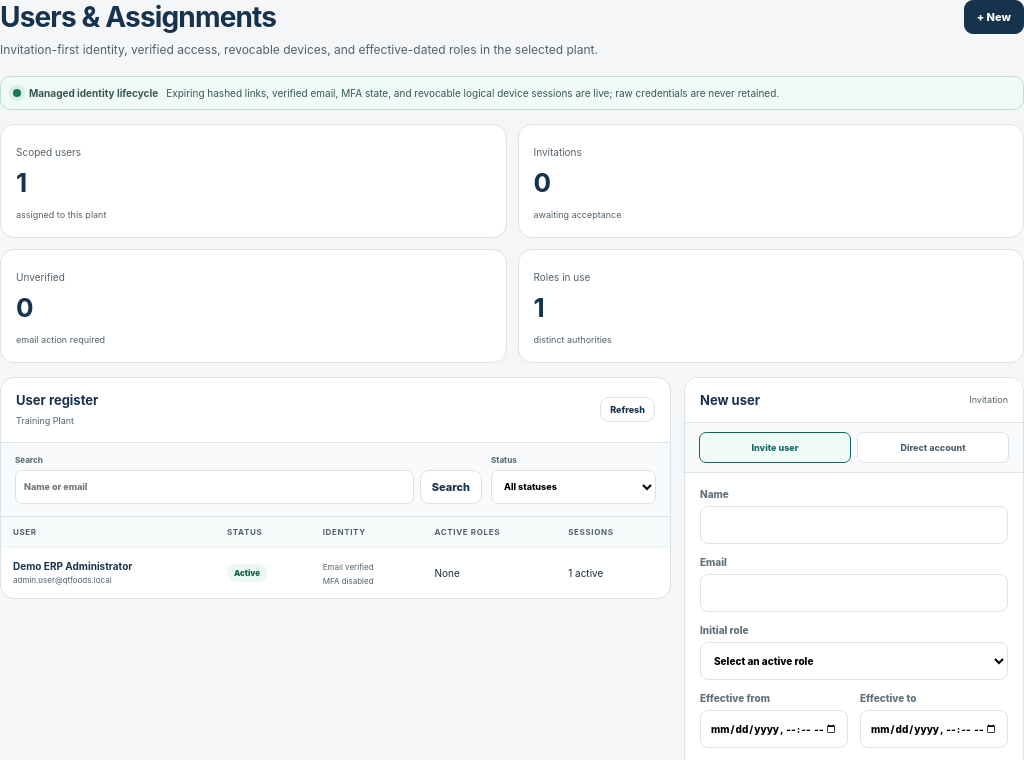
it: foundation administration workspaces › creates an invitation-first user without collecting a temporary password
Check: the text "Demo ERP Administrator" is shown, box [13, 560, 132, 572]
Click the button "+ New": (994, 17) [964, 0, 1023, 34]
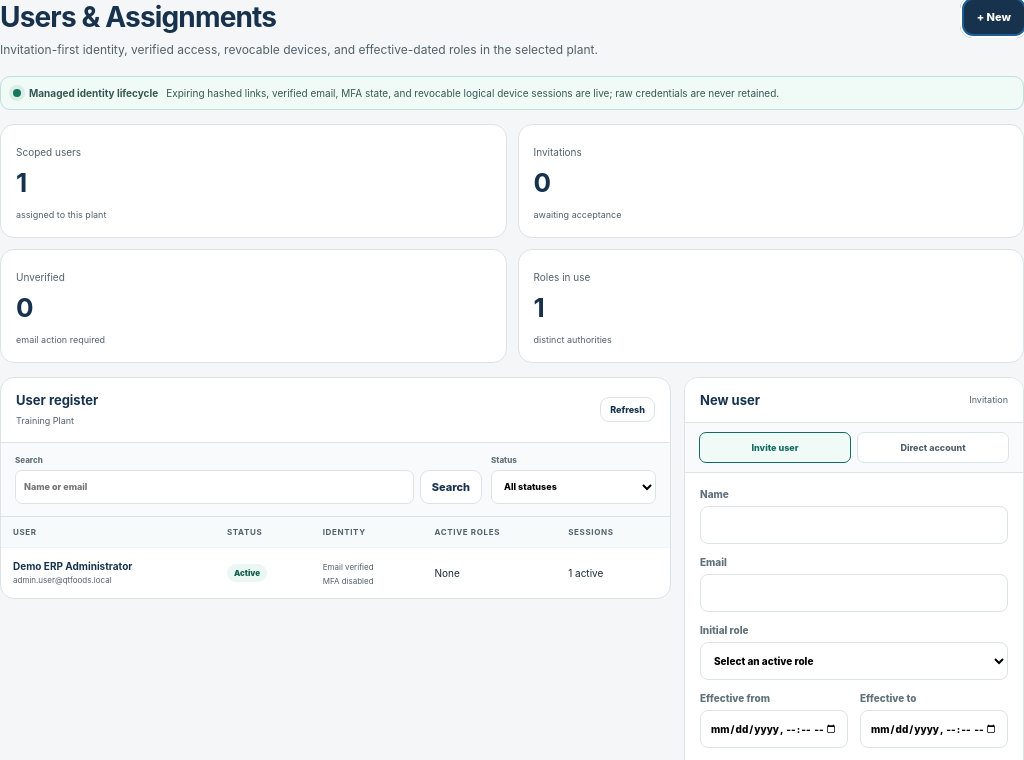
In the field labelled "Name": (854, 525) [700, 506, 1008, 544], type "Invited Auditor"
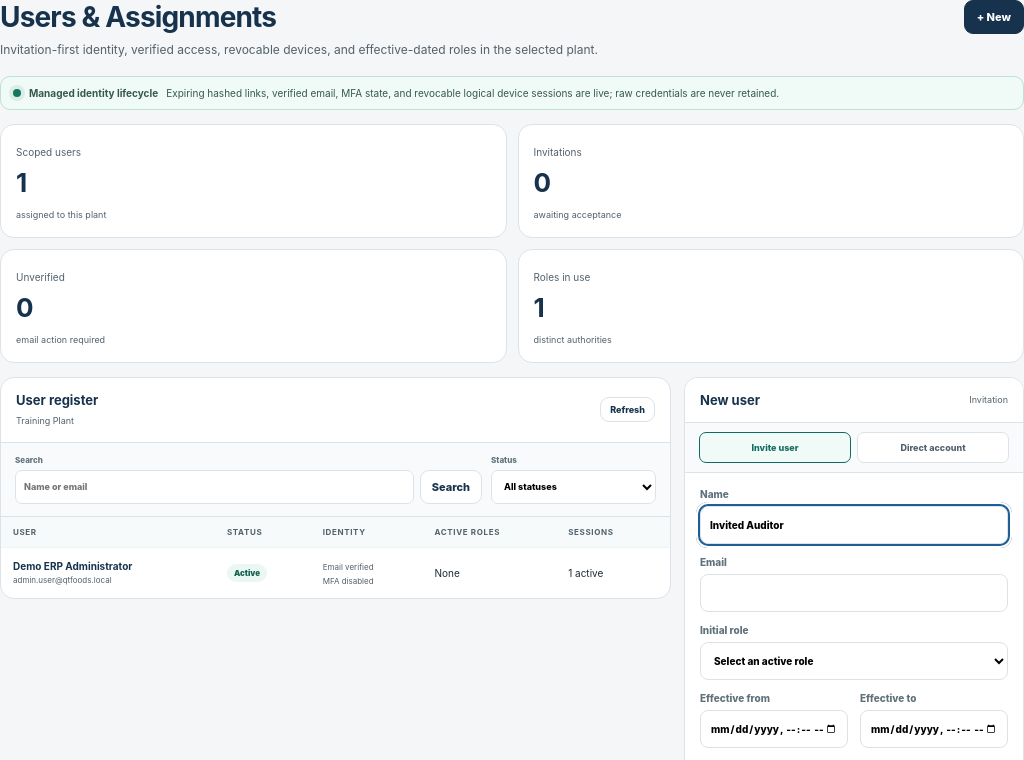
In the field labelled "Email": (854, 593) [700, 574, 1008, 612], type "INVITED@EXAMPLE.LOCAL"
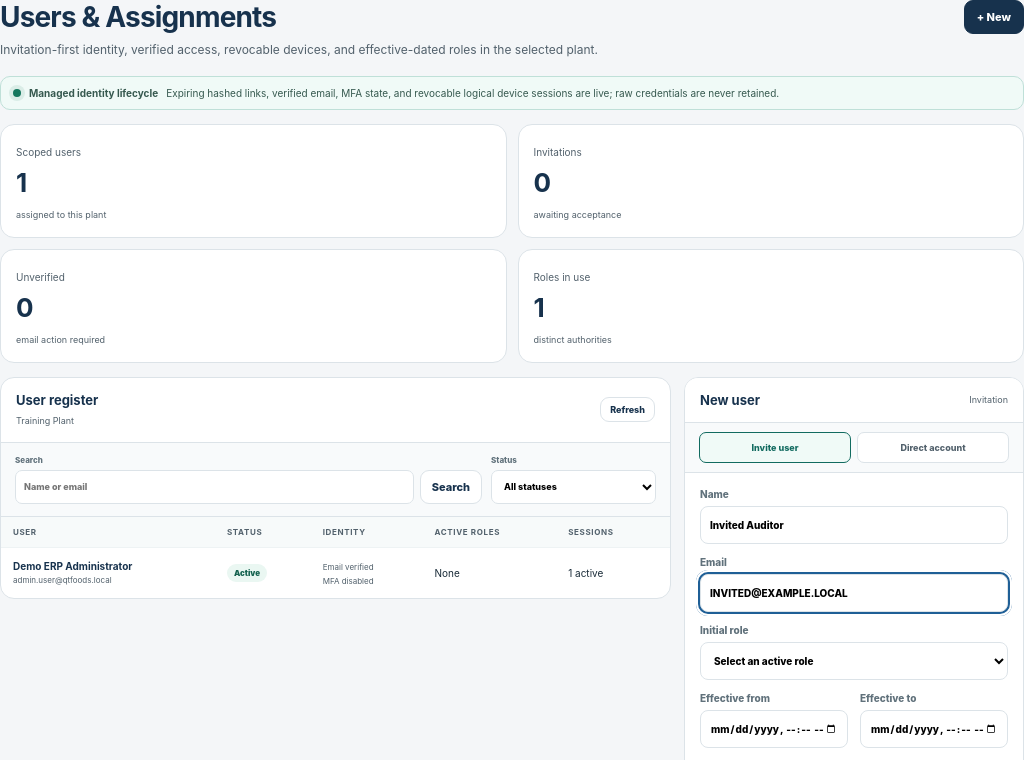
Select "ERP Administrator (ERP_ADMIN)" in the dropdown labelled "Initial role": (854, 661) [700, 642, 1008, 680]
(page scrolled)
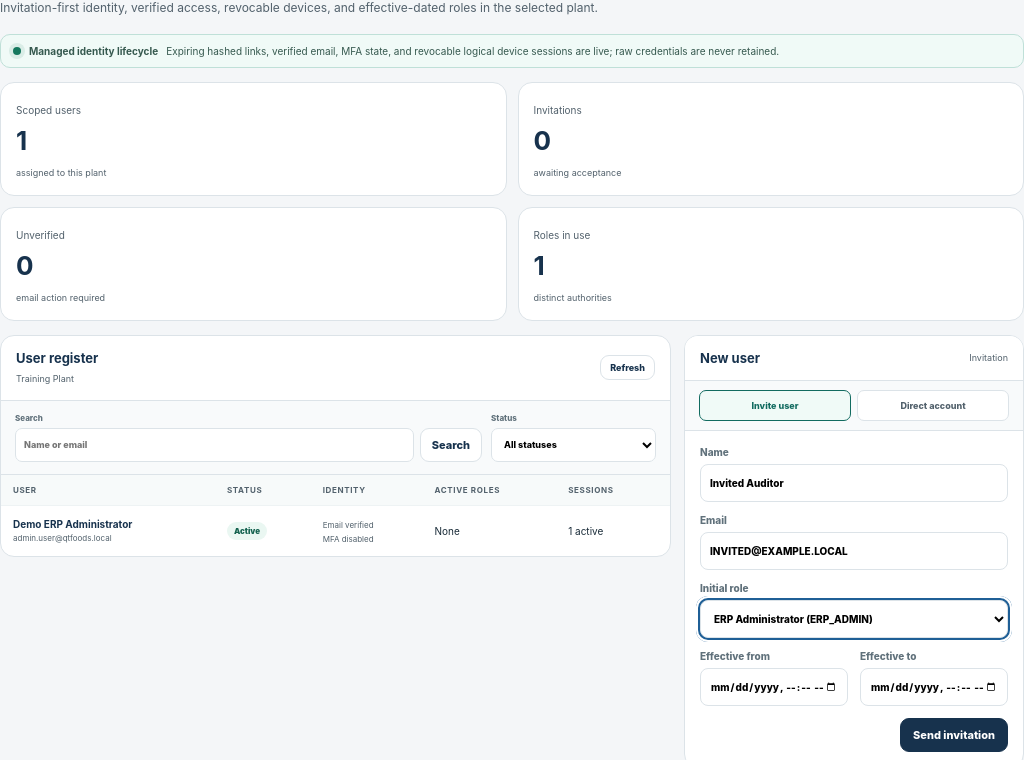
Click the button "Send invitation": (954, 735) [900, 718, 1008, 752]
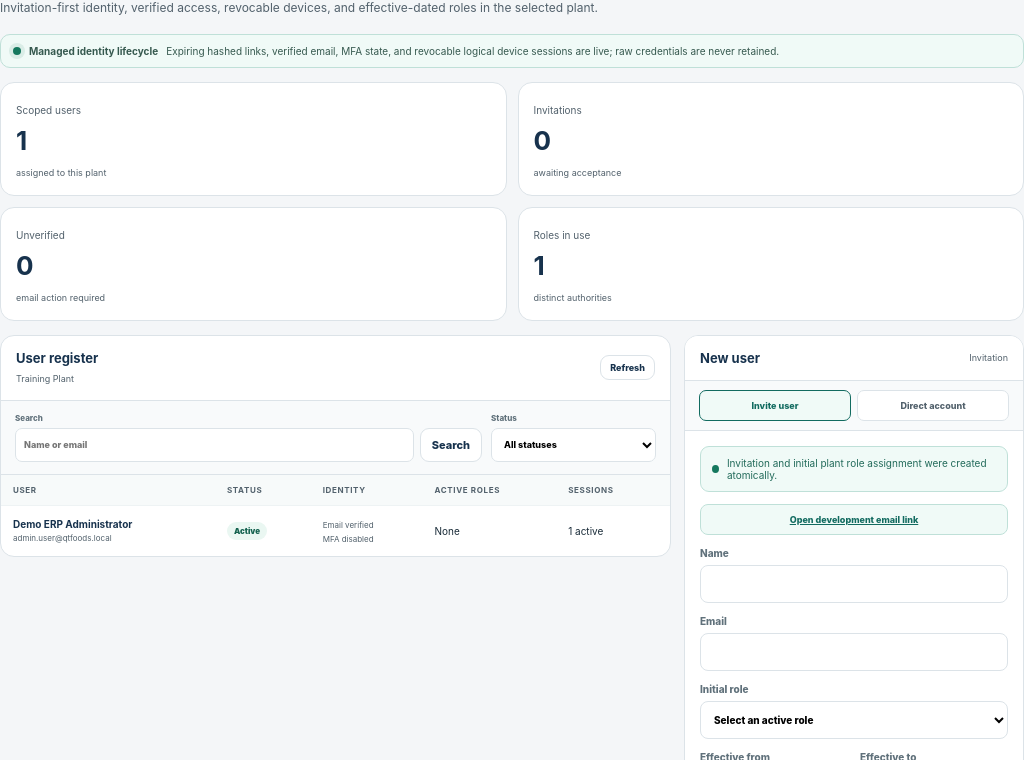
Check: the message shows "Invitation and initial plant role assignment", box [727, 457, 987, 481]
Check: the link "Open development email link" is shown, box [700, 504, 1008, 535]
